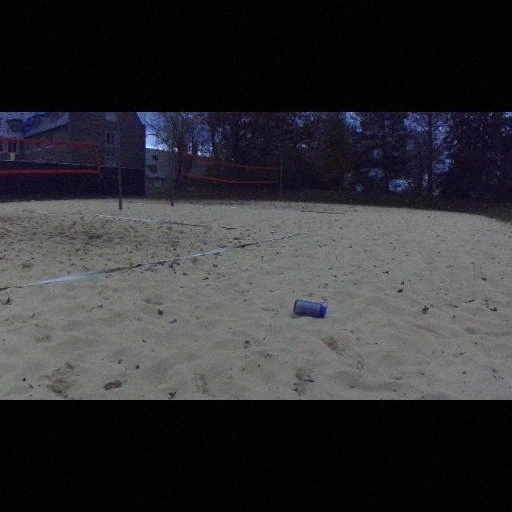bottle: (293, 299, 329, 319)
